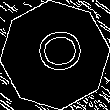O_W: (27, 31, 83, 79)
